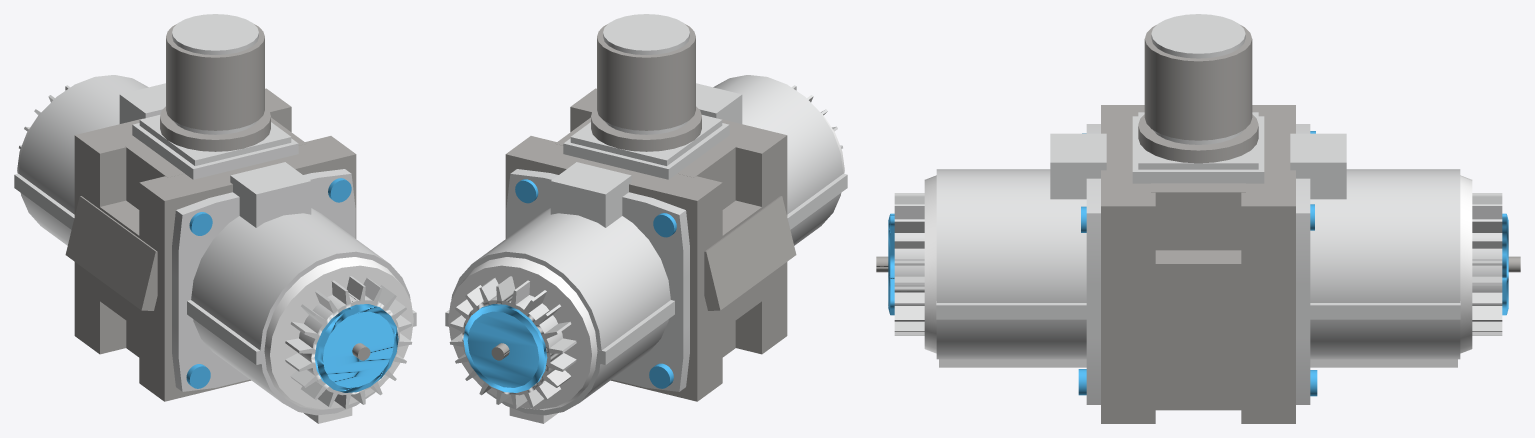
File: pressure.fbx
3 renders of one model, left to right at view 1: azimuth 30°, elevation 25°; view 2: azimuth 150°, elevation 25°; view 3: azimuth 270°, elevation 25°, orthographic. The views are drawn at different scales.
Parts seen in each view (by area): view 1: object 2_mesh; view 2: object 2_mesh; view 3: object 2_mesh.
Boxes of the visible parts, x1,y1,x2,y2 form: object 2_mesh: (14, 14, 416, 423); object 2_mesh: (445, 14, 847, 423); object 2_mesh: (876, 14, 1520, 423).
Size of the model in its own units: 19.74 by 28.42 by 48.92.
